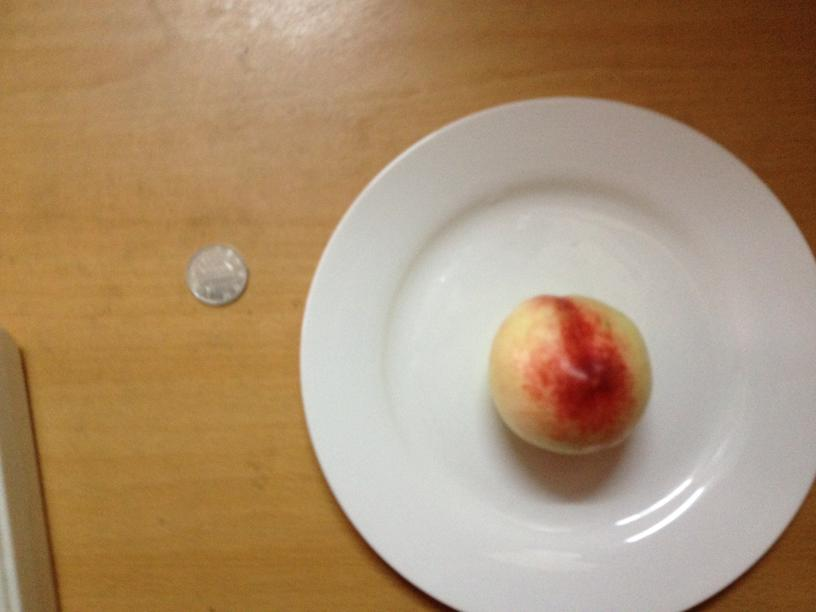coin: (186, 246, 247, 307)
peach: (495, 295, 652, 454)
